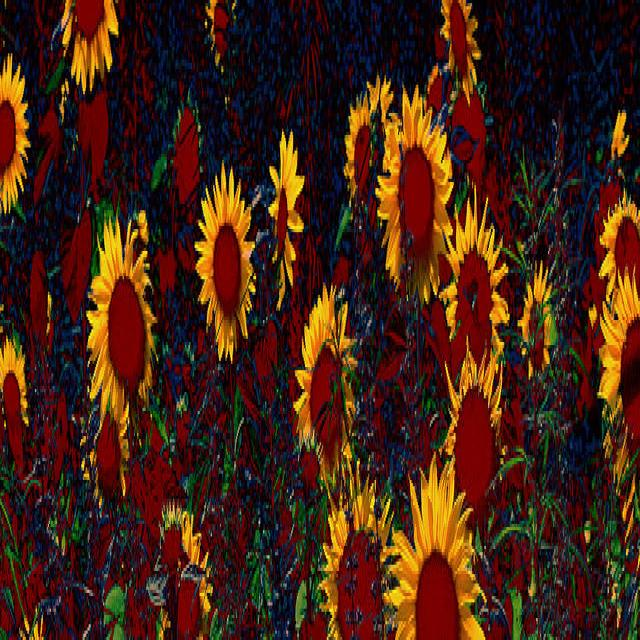sunflower: (383, 448, 486, 640), (380, 69, 460, 314), (86, 192, 162, 442), (437, 182, 511, 405), (437, 350, 507, 563), (315, 467, 398, 640), (292, 278, 361, 484), (195, 151, 258, 367), (595, 248, 640, 477), (152, 486, 216, 640), (339, 69, 389, 238), (266, 122, 308, 317), (60, 0, 121, 110), (595, 179, 640, 317), (518, 257, 561, 389), (0, 45, 33, 215), (436, 0, 485, 97), (0, 331, 30, 434), (203, 0, 238, 78)
